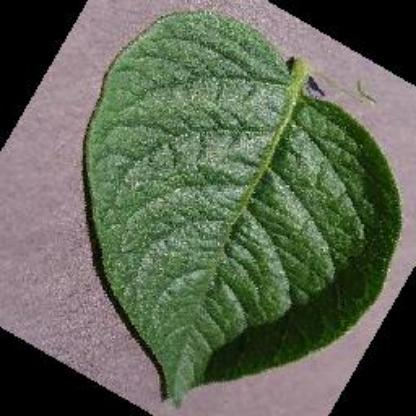Healthy-plant: (81, 9, 404, 409)
